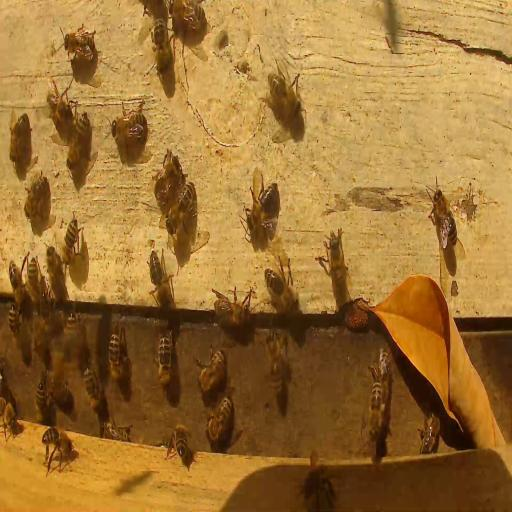bee: (246, 184, 279, 239), (326, 228, 350, 300), (167, 179, 196, 237), (213, 288, 250, 332), (432, 186, 458, 248), (268, 73, 302, 120), (8, 110, 32, 175), (266, 270, 299, 316), (152, 153, 184, 199), (197, 350, 227, 394), (149, 252, 173, 306), (368, 376, 388, 440), (206, 397, 233, 444), (63, 26, 97, 63), (111, 113, 149, 146), (266, 330, 284, 398), (24, 175, 50, 222), (67, 110, 88, 166), (170, 0, 206, 32), (165, 423, 192, 465), (151, 19, 171, 72), (41, 428, 74, 460), (46, 246, 66, 298), (108, 330, 126, 382), (157, 327, 173, 383), (419, 413, 440, 455), (0, 398, 22, 438), (62, 212, 78, 267), (47, 377, 73, 410), (10, 262, 28, 307), (26, 253, 41, 303), (47, 90, 71, 121), (100, 419, 133, 440), (84, 364, 100, 407), (36, 377, 48, 422), (8, 302, 22, 340), (378, 348, 390, 388)
